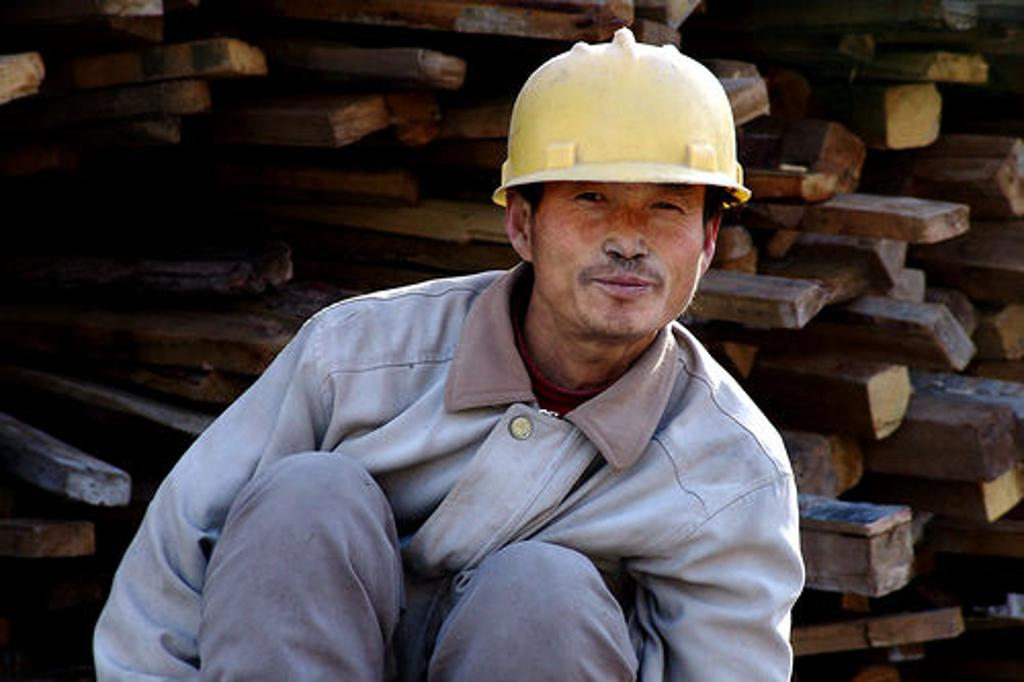face: (542, 118, 700, 322)
